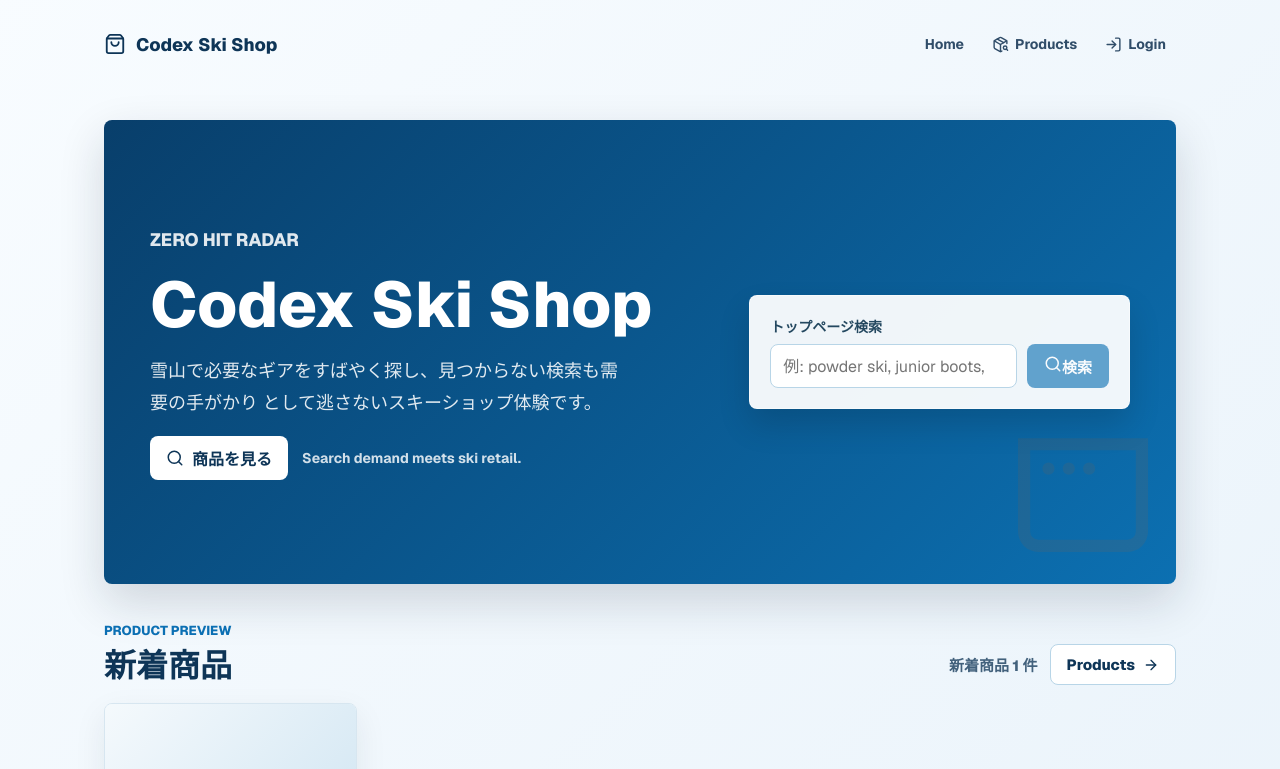
it: HomePageClient › searches products from the top page and renders result cards
Type "powder ski" into the search field labelled "トップページ検索".
click(894, 366); type("powder ski")  # box [770, 344, 1017, 388]
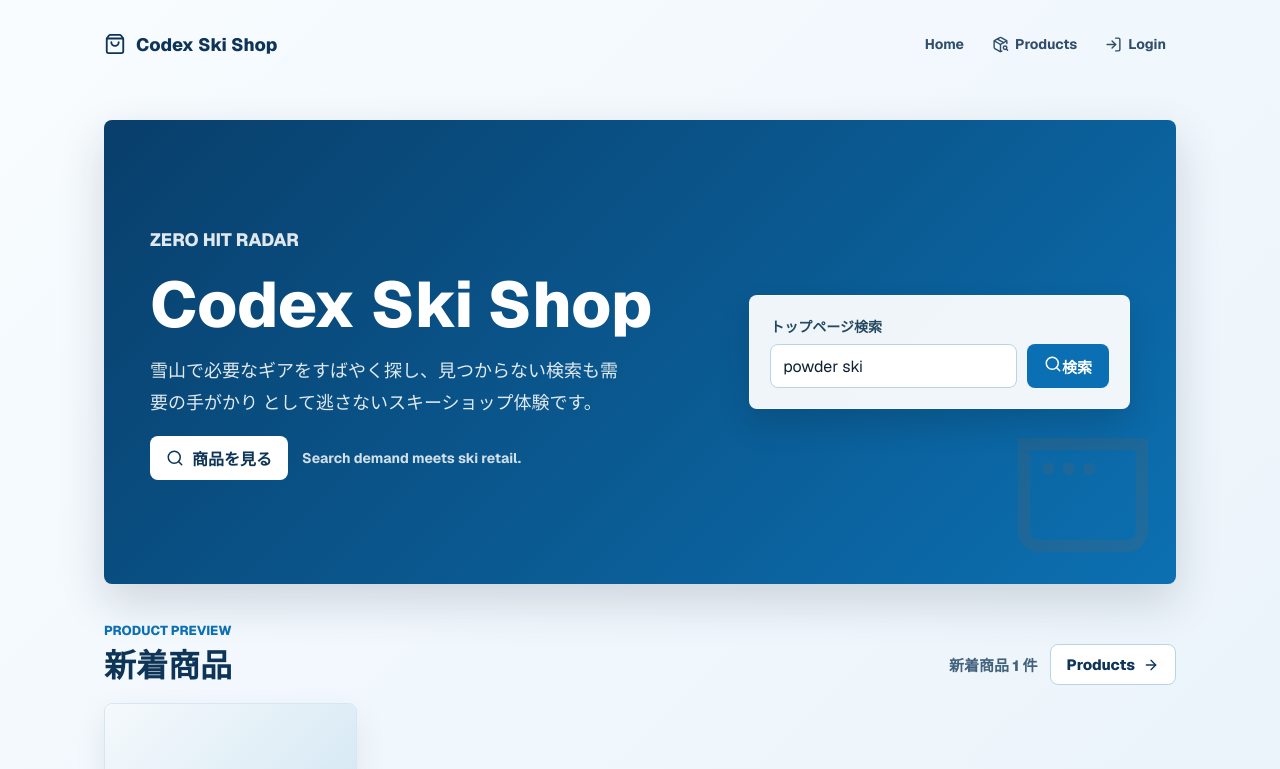
Click the button "検索".
click(1068, 366)  # box [1027, 344, 1109, 388]
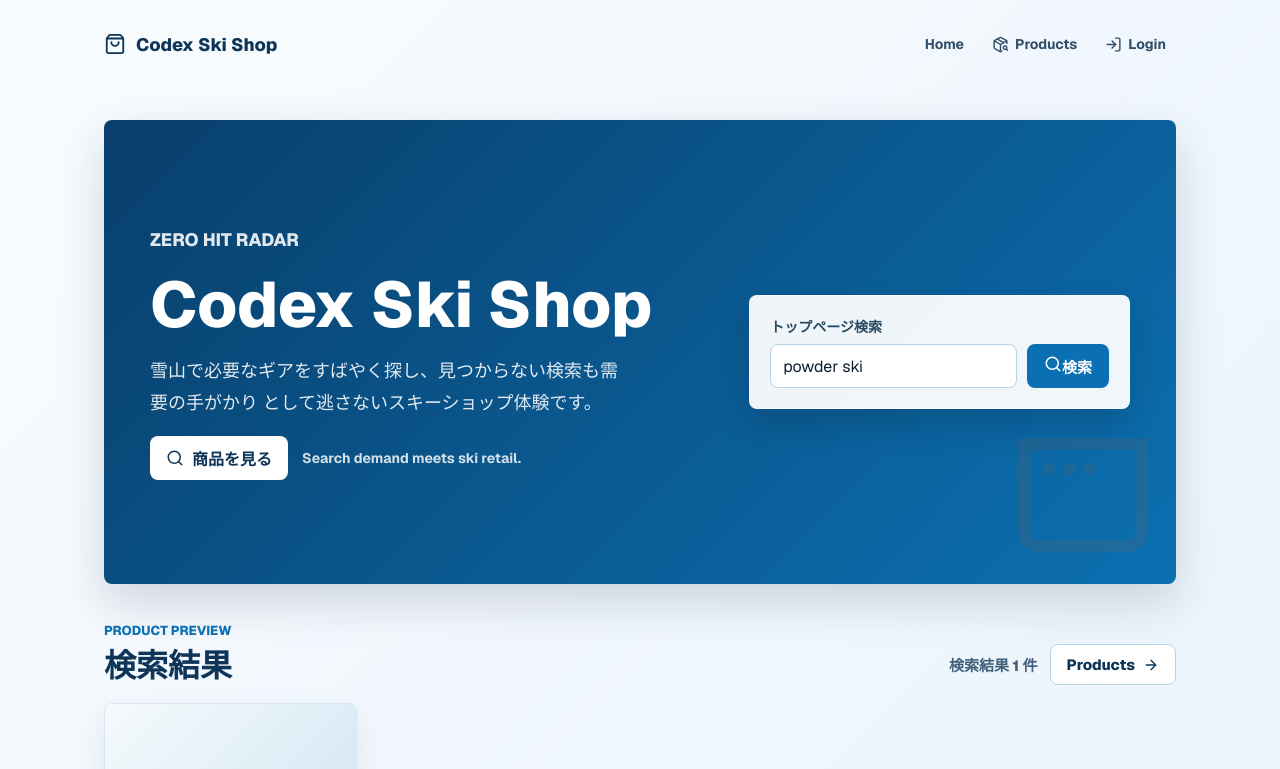
Check: the text "検索結果 1 件" is shown, box [949, 654, 1038, 675]
